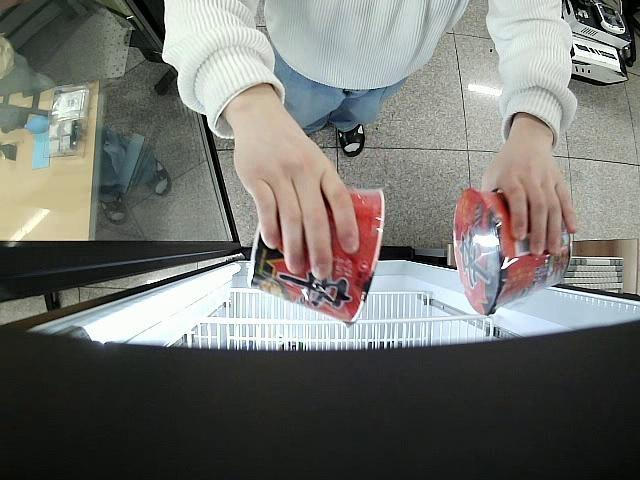01_ShinRamen_L: (246, 187, 386, 327), (453, 186, 572, 320)
